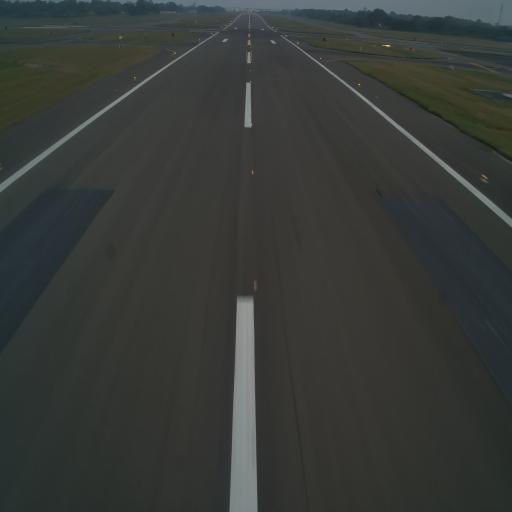off: (250, 95, 253, 101)
on: (479, 169, 489, 183), (250, 277, 260, 291), (250, 167, 256, 177), (357, 82, 362, 90), (318, 56, 324, 60), (249, 80, 253, 85), (250, 122, 253, 128), (132, 76, 136, 80), (174, 51, 177, 56)
